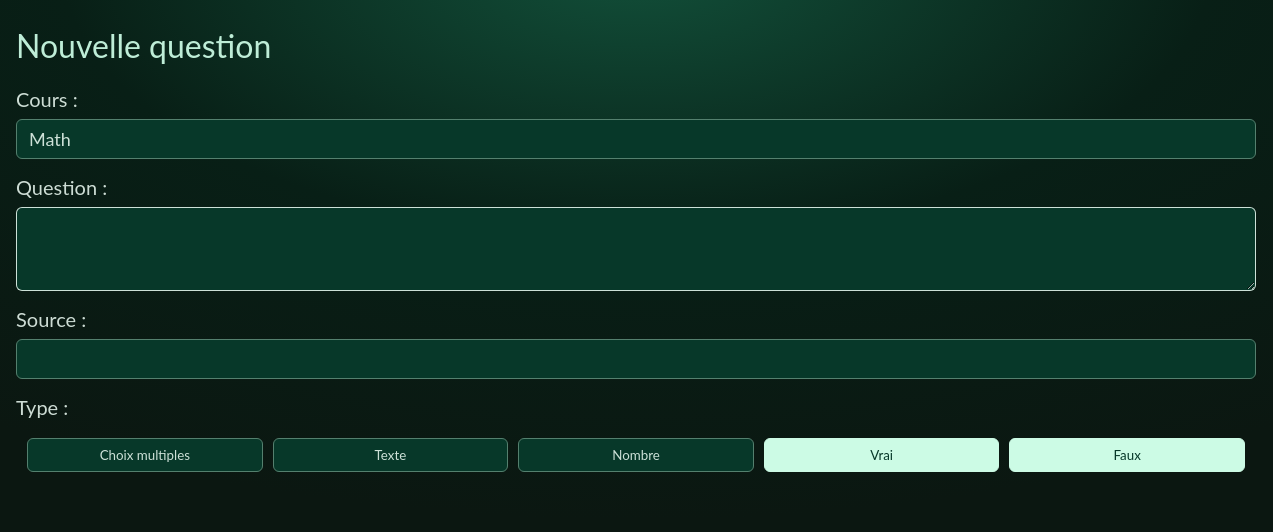
NewQuestion › enregistre directement avec answer='True' et history='Vrai' quand le formulaire est valide
Type "Le ciel est bleu" into the text box labelled "Question :".
click(636, 249); type("Le ciel est bleu")  # box top-left (16, 207), bottom-right (1256, 291)
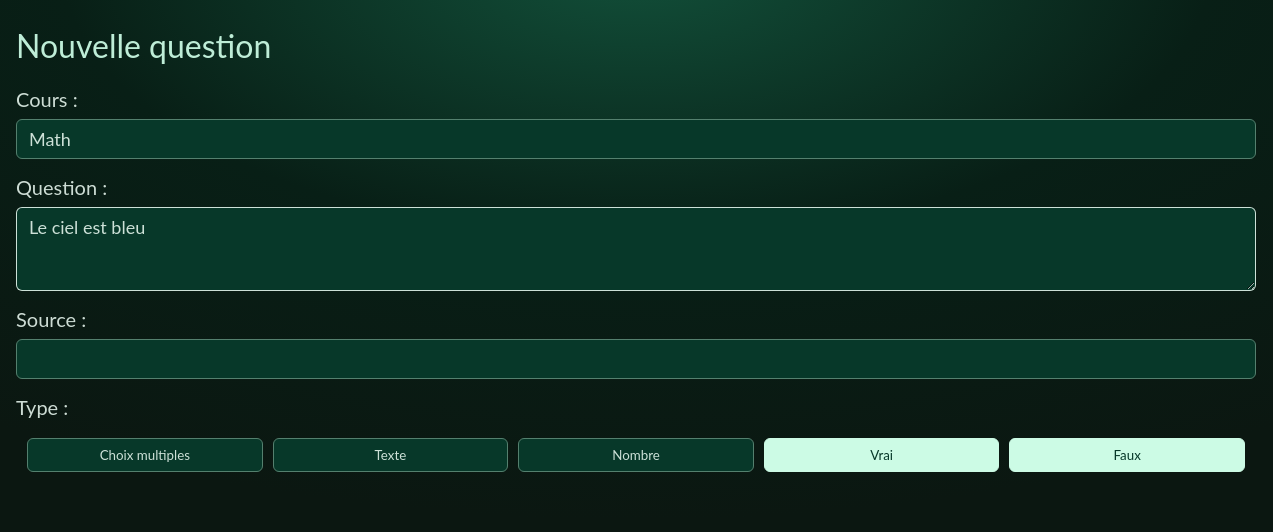
Type "Livret" into the field labelled "Source :".
click(636, 359); type("Livret")  # box top-left (16, 339), bottom-right (1256, 379)
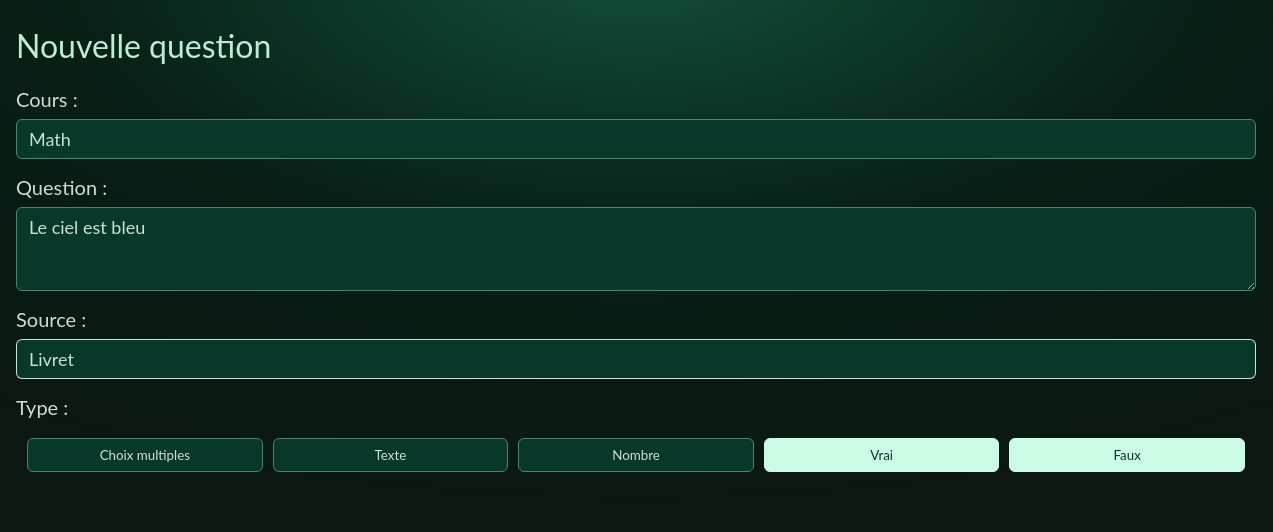
Click the button "Vrai".
click(882, 455)  # box top-left (764, 438), bottom-right (999, 472)
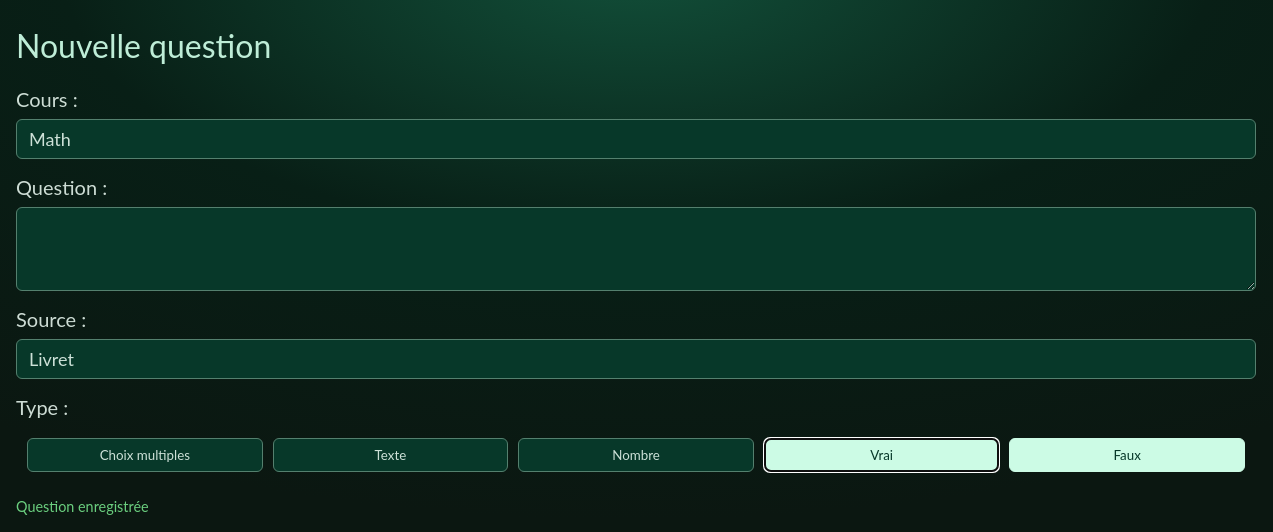
Now the text "Question enregistrée" is shown, box top-left (16, 498), bottom-right (149, 515)
